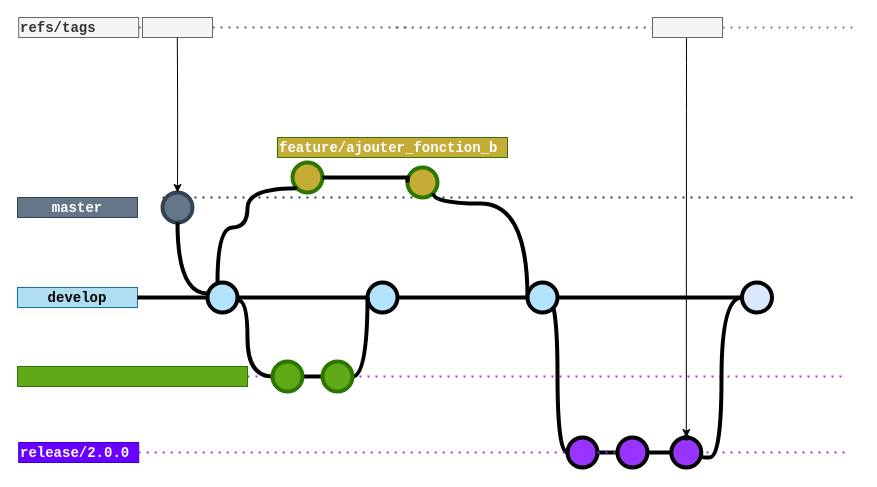
Image size: 877x487. Some labels were removed from this diagram. Here are the shapes that lost their labels. From the top down, the centre of each, then its label:
[177,27]: Tag: 1.0.0
[687,27]: Tag: 2.0.0
[132,376]: feature/ajouter_fonction_a
